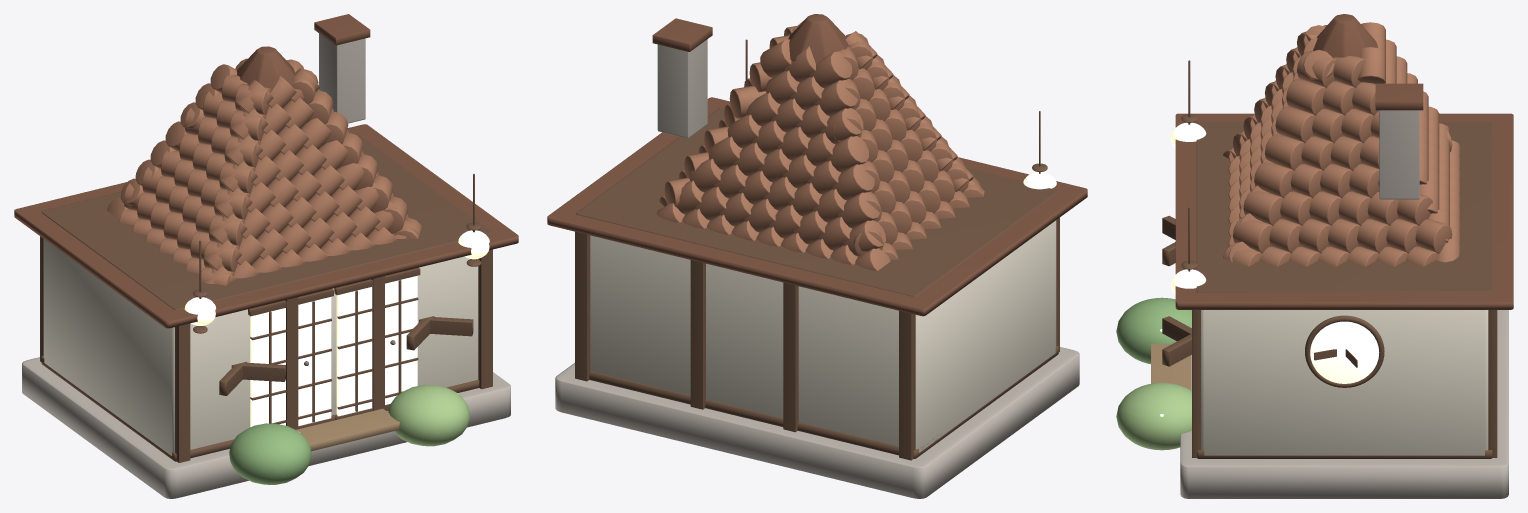
File: kominka_v2.glb
3 renders of one model, left to right at view 1: azimuth 30°, elevation 25°; view 2: azimuth 150°, elevation 25°; view 3: azimuth 270°, elevation 25°, orthographic. The views are drawn at different scales.
Visible parts, largest first — view 1: kominka_v2; view 2: kominka_v2; view 3: kominka_v2.
Part boxes in pixels (x1=…): kominka_v2: x1=14, y1=14, x2=518, y2=498; kominka_v2: x1=547, y1=14, x2=1087, y2=498; kominka_v2: x1=1116, y1=14, x2=1513, y2=498.
Size of the model in its own units: 2.49 by 2.35 by 2.18.
